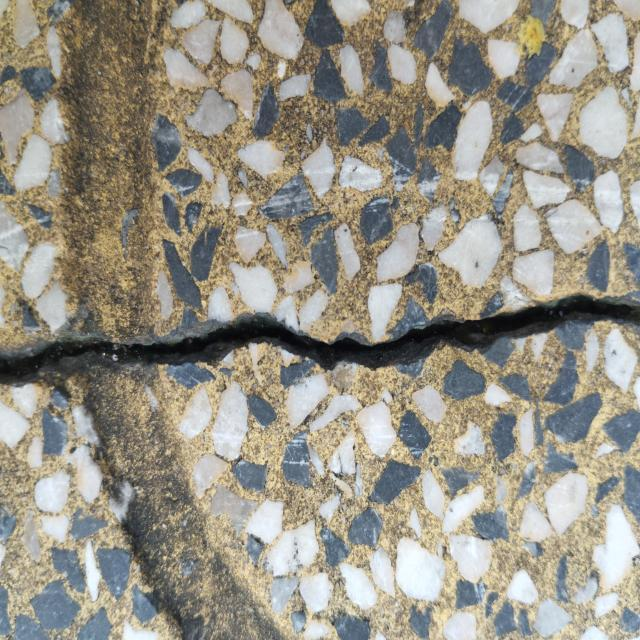horizontal crack: (0, 295, 639, 382)
